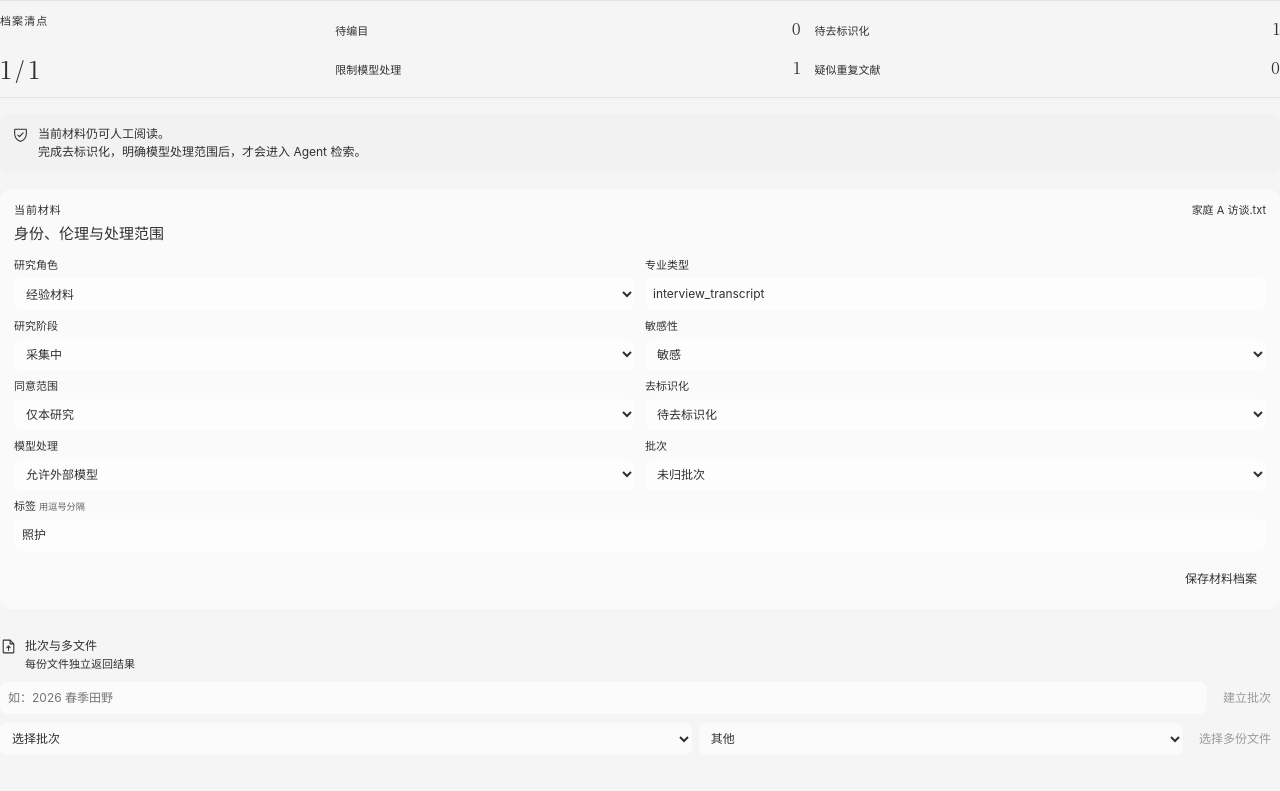
Test: professional material archive panel › makes restrictions visible without blocking manual reading and saves explicit policy
This screenshot has width=1280, height=791.
Check: the text "当前材料仍可人工阅读。" is shown, box [38,126,170,141]
Check: the text "1" in the row of "限制模型处理" is shown, box [793,56,801,79]
Select "已完成" in the dropdown labelled "去标识化": (956, 414) [645,399,1266,430]
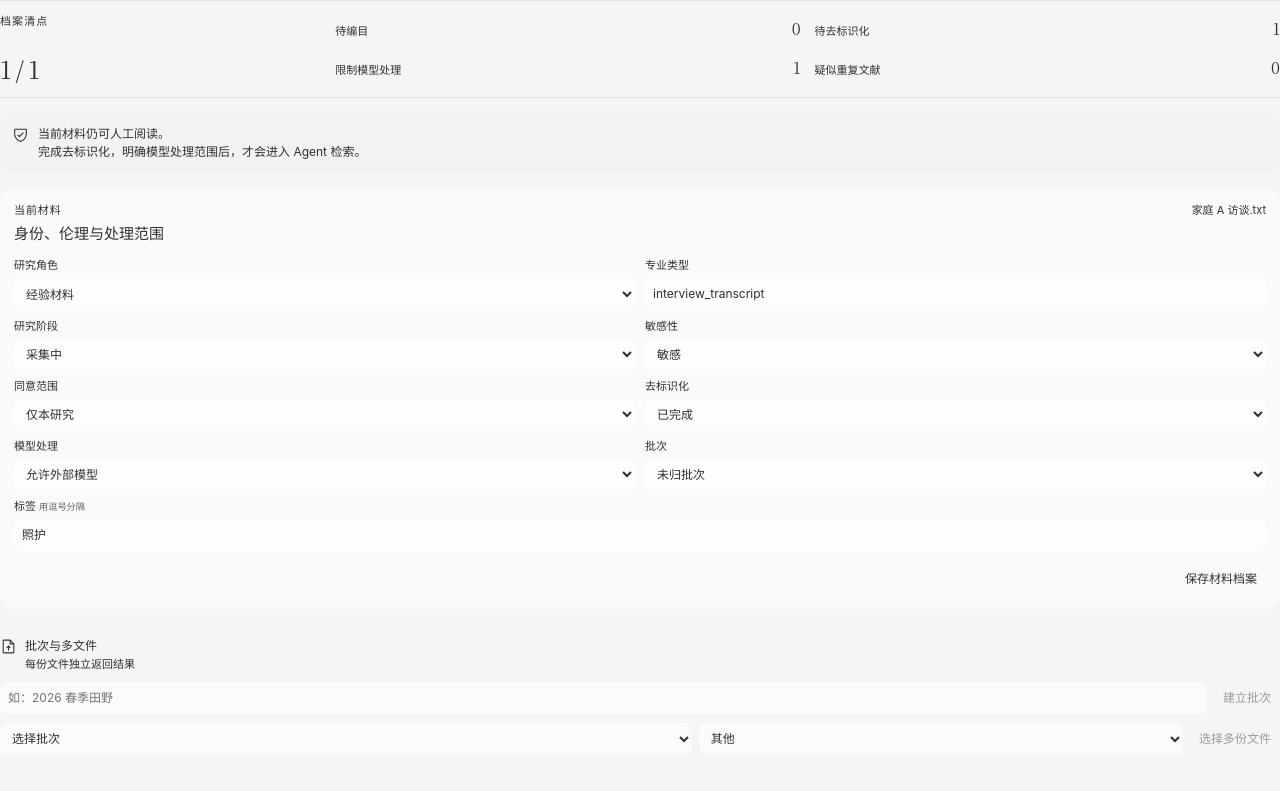
Select "允许外部模型" in the dropdown labelled "模型处理": (324, 474) [14,459,635,490]
Click the button "保存材料档案": (1221, 579) [1176,563,1266,595]
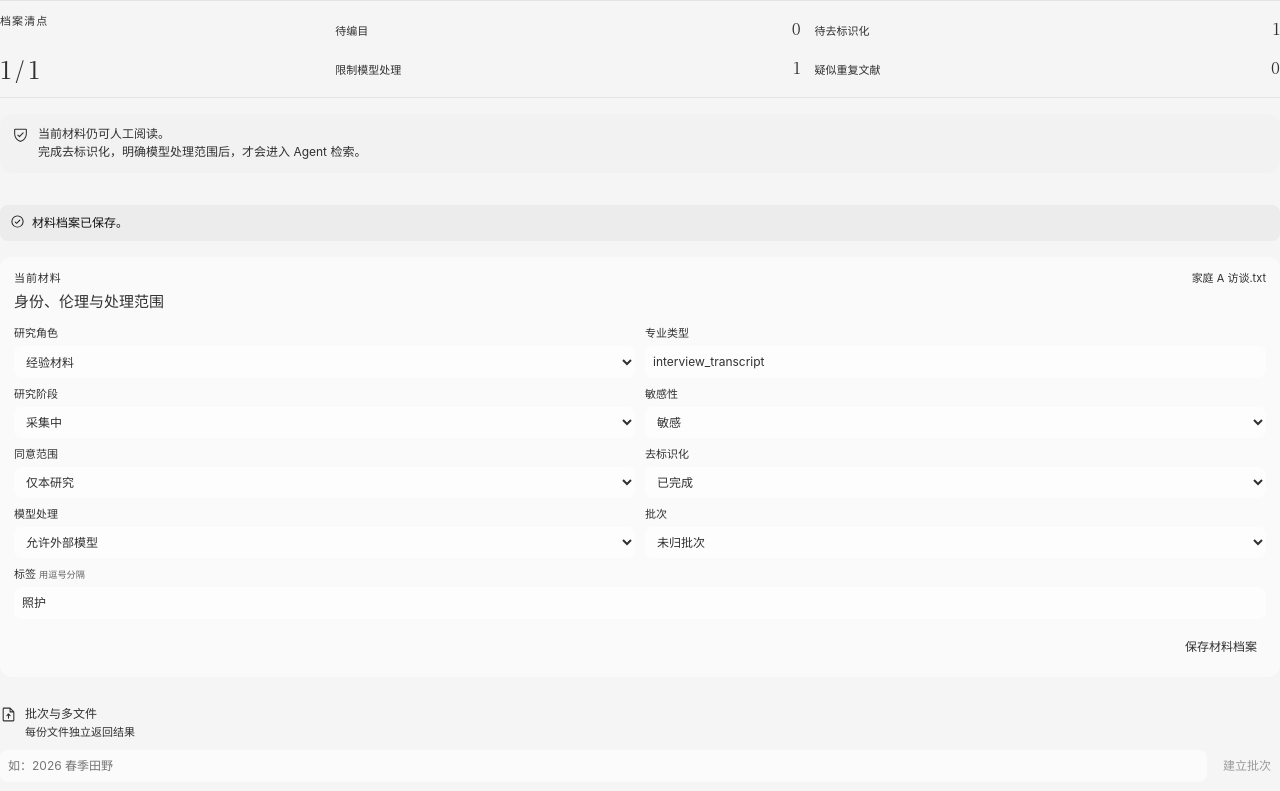
Check: the text "材料档案已保存。" is shown, box [0,205,1279,241]
